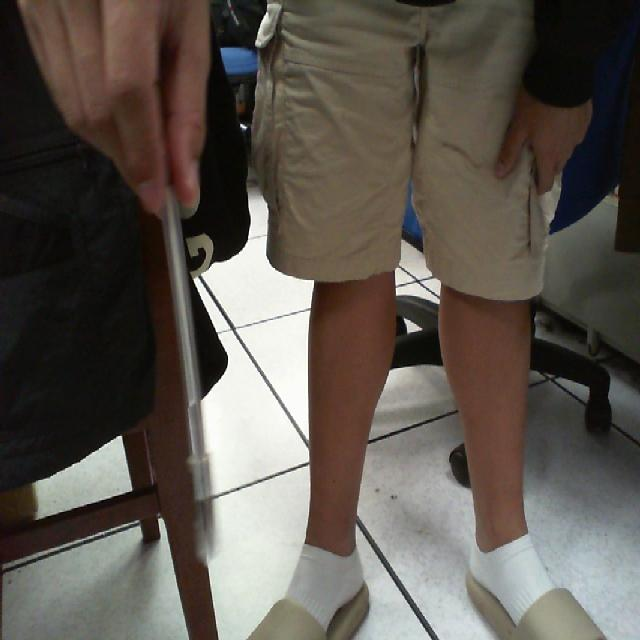Pen: (153, 184, 238, 548)
